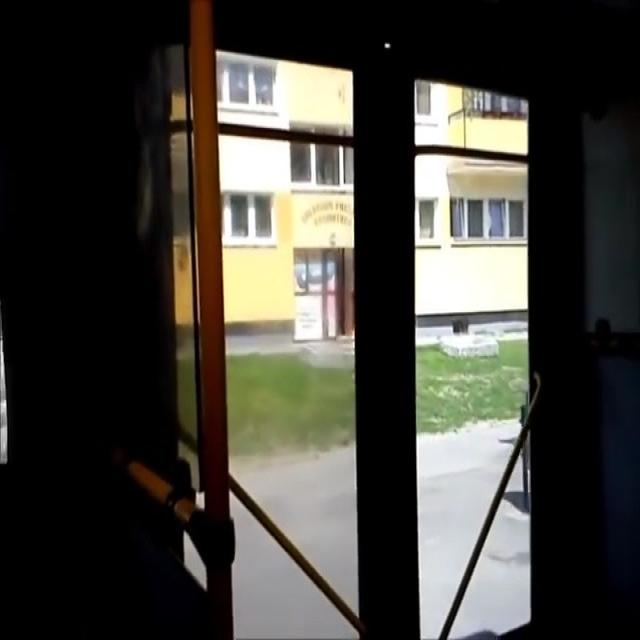bus-door: (168, 11, 568, 640)
